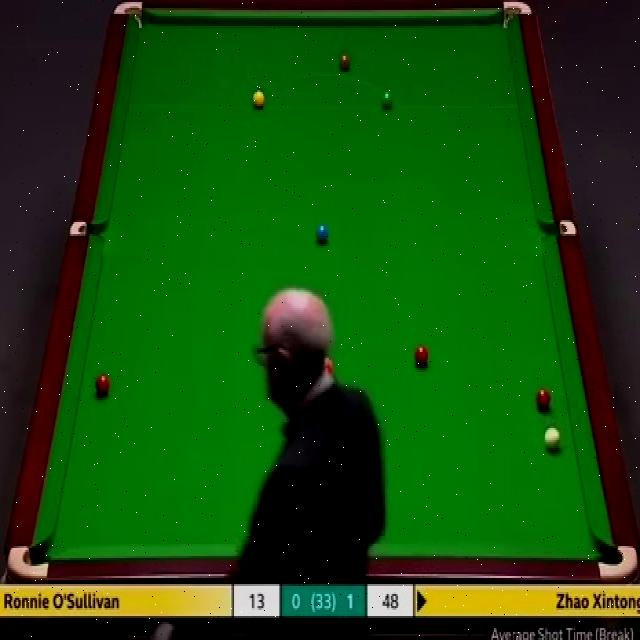blue-ball: (316, 225, 327, 245)
brown-ball: (336, 53, 352, 73)
green-ball: (380, 89, 393, 110)
red-ball: (536, 387, 551, 412), (93, 376, 110, 398), (414, 345, 428, 367)
white-ball: (542, 427, 560, 453)
yellow-ball: (251, 89, 265, 110)
